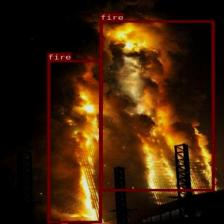fire: (99, 20, 214, 191), (46, 60, 102, 222)
